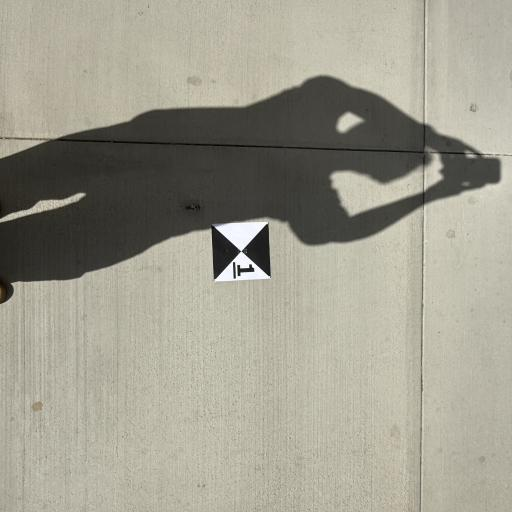target1: (209, 216, 276, 285)
